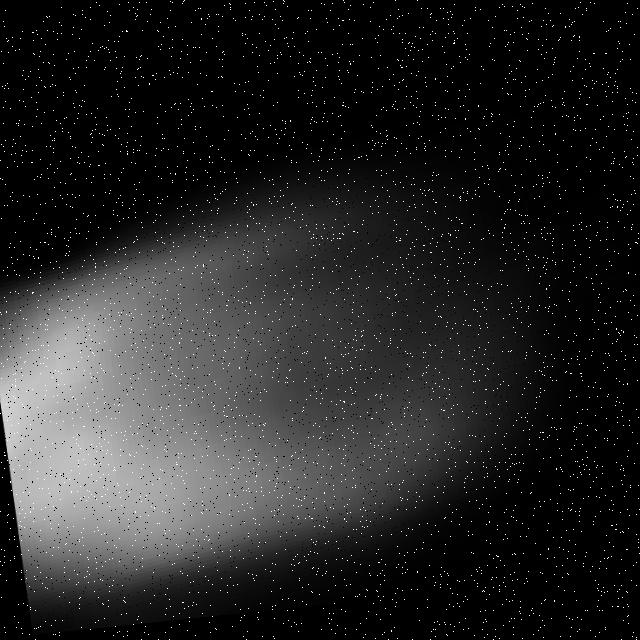person: (1, 93, 533, 639)
